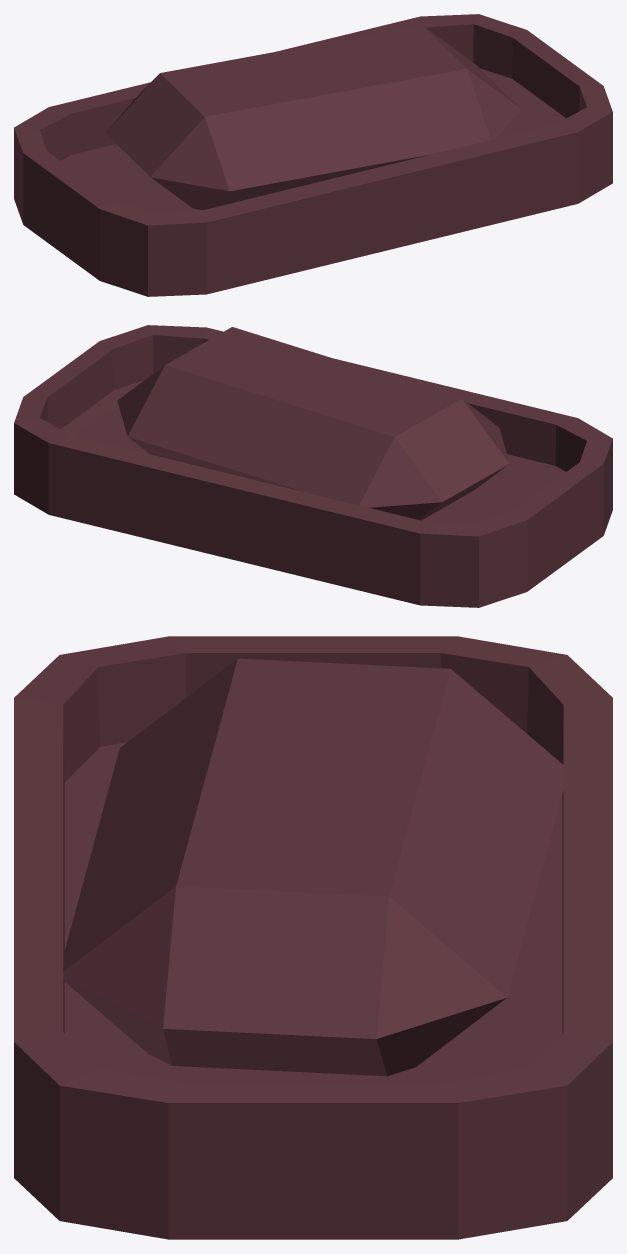
The model's file is furniture-soap-tray.glb.
3 renders of one model, top to bottom at view 1: azimuth 30°, elevation 25°; view 2: azimuth 150°, elevation 25°; view 3: azimuth 270°, elevation 25°, orthographic. The views are drawn at different scales.
Visible parts, largest first — view 1: soap-tray; view 2: soap-tray; view 3: soap-tray.
Part boxes in pixels (x1,y1,x2,y2): soap-tray: [14, 14, 612, 296]; soap-tray: [14, 325, 612, 607]; soap-tray: [14, 636, 612, 1239].
Bounding box in the file's own units: 0.1437 × 0.0328 × 0.0779.
